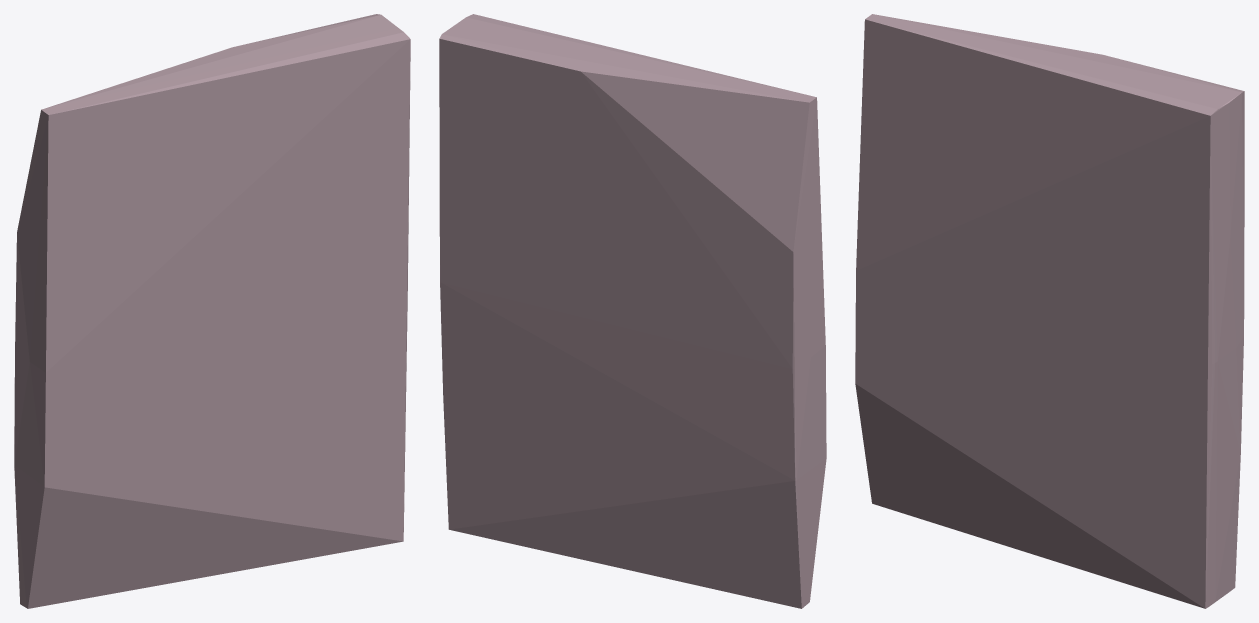
The model's file is box_cardboard_folded_brown_a02.glb.
3 renders of one model, left to right at view 1: azimuth 30°, elevation 25°; view 2: azimuth 150°, elevation 25°; view 3: azimuth 330°, elevation 25°, orthographic.
Visible parts, largest first — view 1: geometry_0; view 2: geometry_0; view 3: geometry_0.
Boxes of the visible parts, x1,y1,x2,y2 form: geometry_0: (14,14,410,608); geometry_0: (439,14,826,608); geometry_0: (855,14,1244,608).
Bounding box in the file's own units: 0.3604 × 0.48 × 0.0593.
